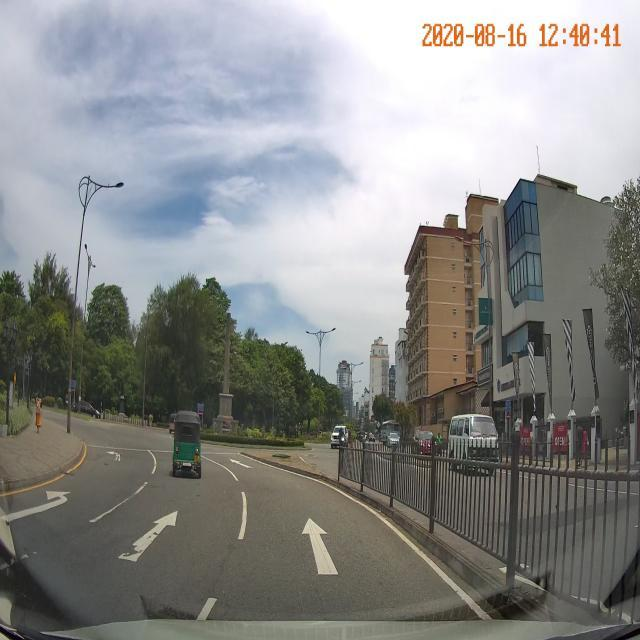forward: (214, 501, 444, 590), (61, 493, 236, 589)
